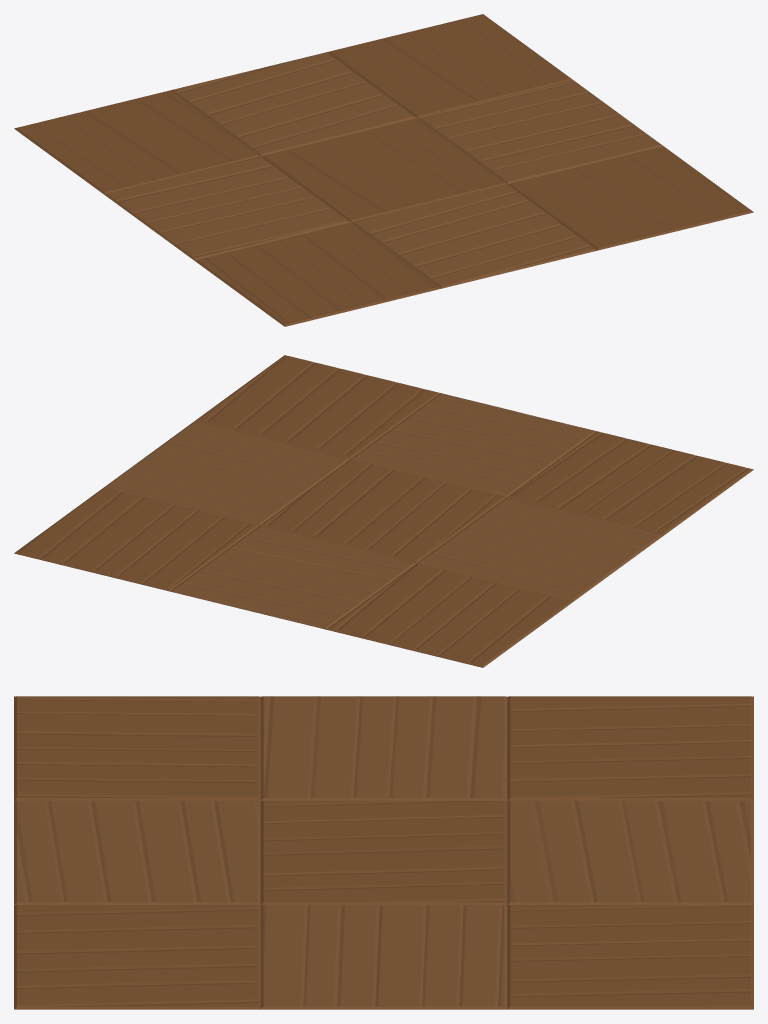
File: Wood_Floor_Module_00_02.glb
The picture shows the model from 3 angles, top to bottom: view 1: azimuth 30°, elevation 25°; view 2: azimuth 150°, elevation 25°; view 3: azimuth 270°, elevation 25°; orthographic projection. The views are drawn at different scales.
Parts seen in each view (by area): view 1: Wood_Floor_Module_00_02; view 2: Wood_Floor_Module_00_02; view 3: Wood_Floor_Module_00_02.
Boxes of the visible parts, x1=… form: Wood_Floor_Module_00_02: x1=14, y1=14, x2=753, y2=326; Wood_Floor_Module_00_02: x1=14, y1=355, x2=753, y2=667; Wood_Floor_Module_00_02: x1=14, y1=696, x2=753, y2=1009.
Bounding box in the file's own units: 4.74 × 0.012 × 4.74.
